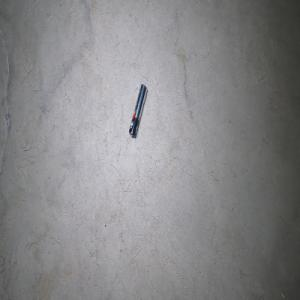Battery: (128, 83, 147, 138)
